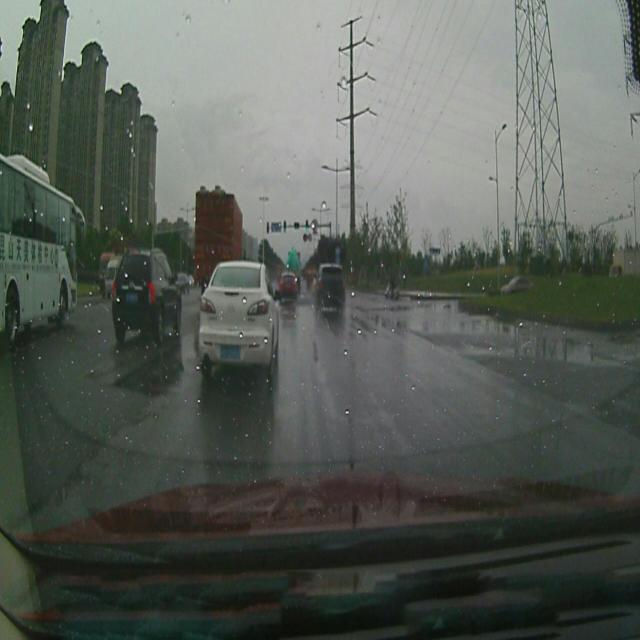car: (198, 258, 282, 375), (110, 240, 181, 348), (311, 255, 349, 322), (274, 260, 302, 304)
